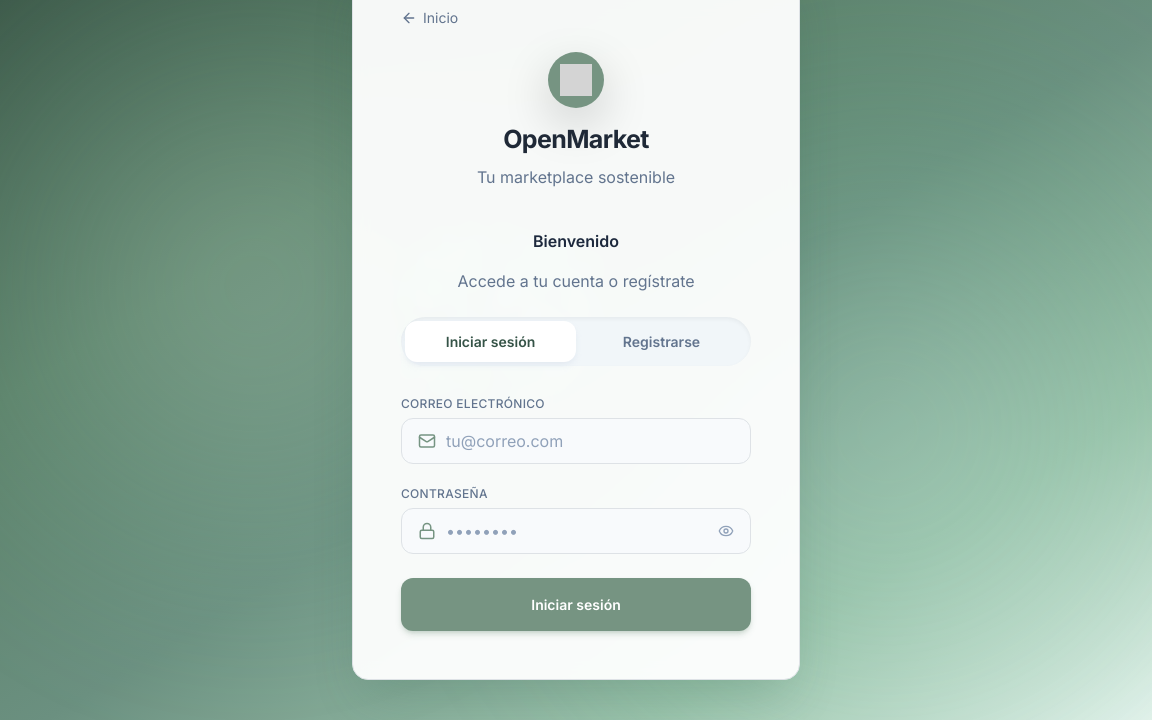
Test: AuthPage › muestra error cuando el login falla
(page scrolled)
In the field with placeholder "tu@correo.com": (590, 441) [446,429,734,453], type "wrong@test.com"
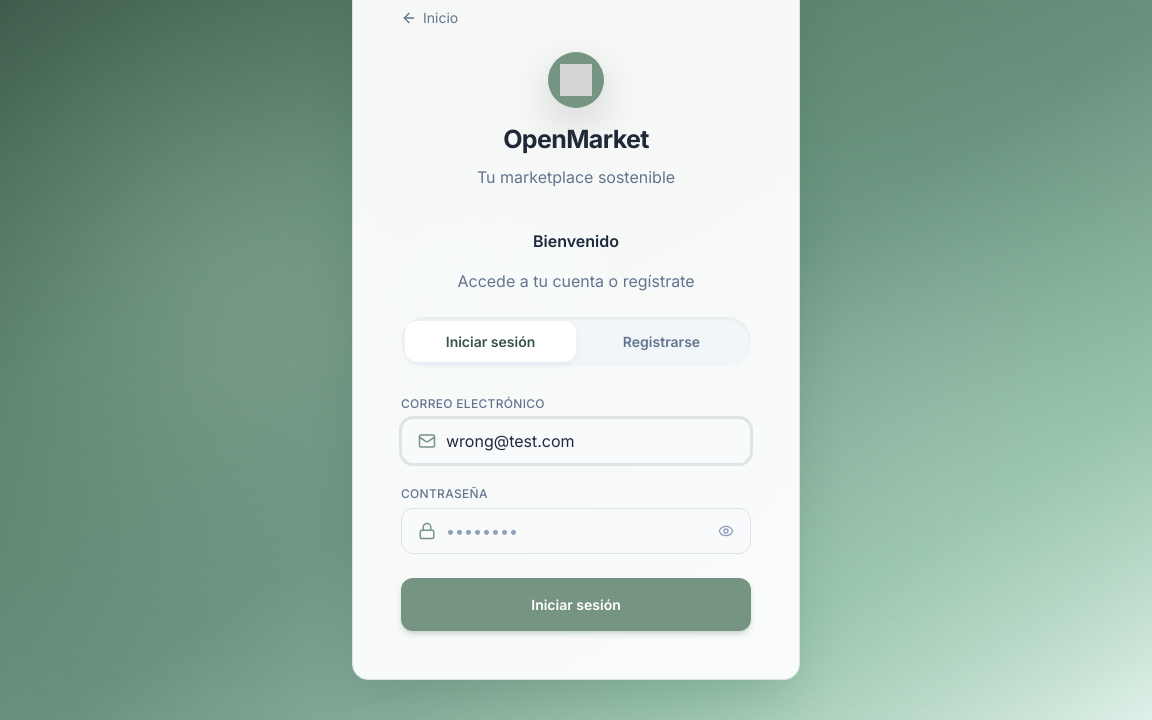
In the password field with placeholder "••••••••": (582, 531) [446,519,718,543], type "wrongpass"
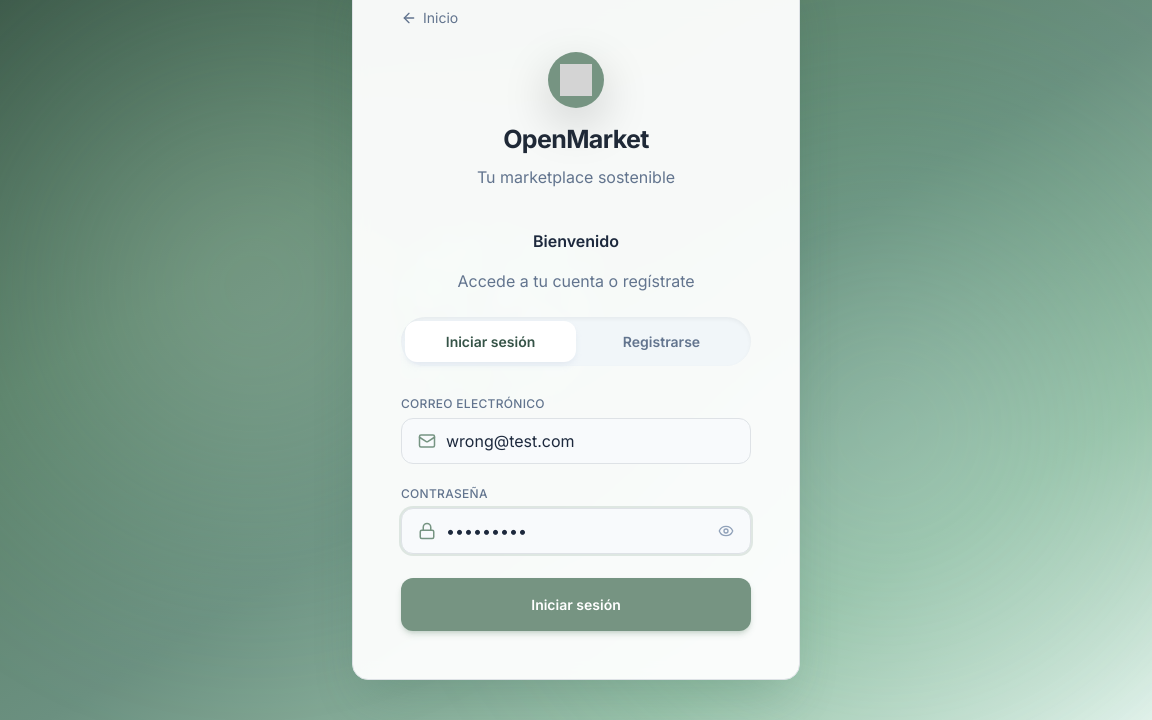
Click the button "Iniciar sesión" below "Contraseña": (576, 604) [401,578,751,631]
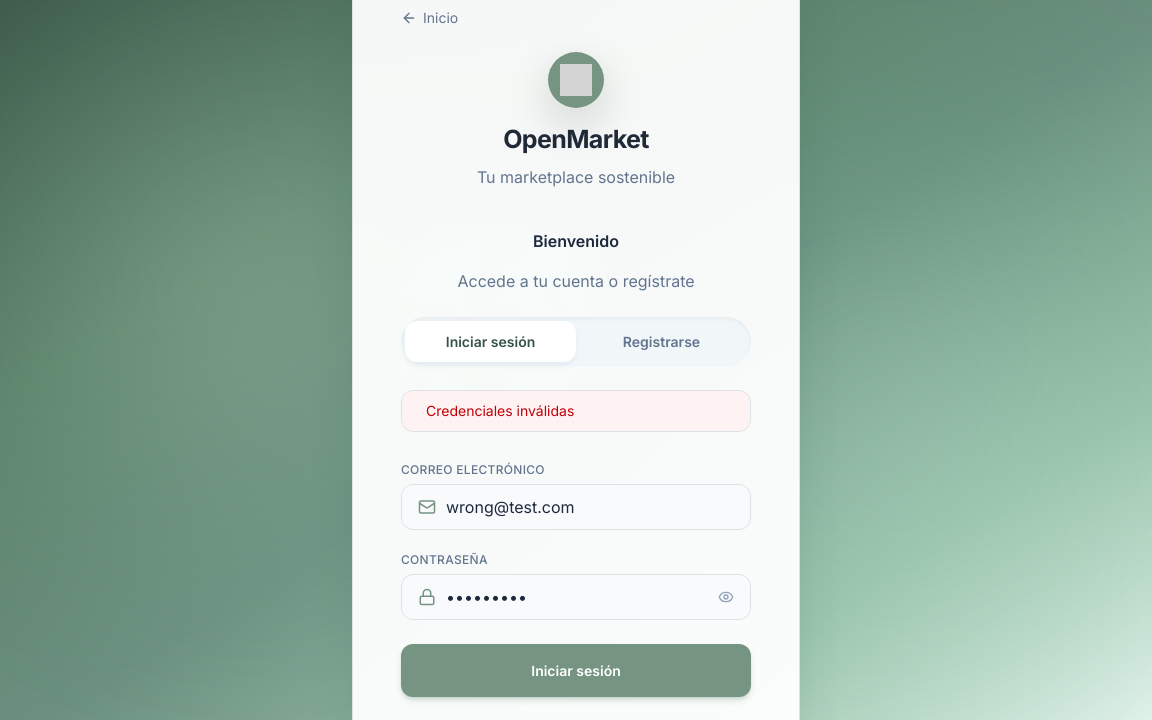
Expected: the text "Credenciales inválidas" is shown, [401,390,751,432]
